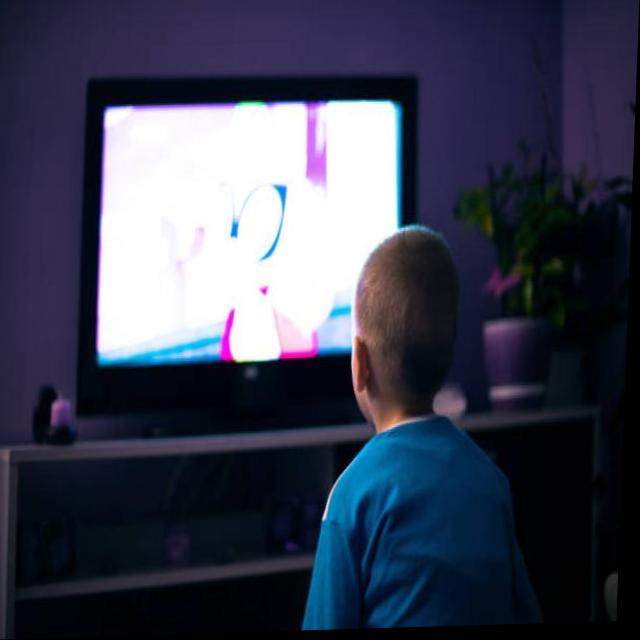no helmet: (332, 209, 469, 450)
